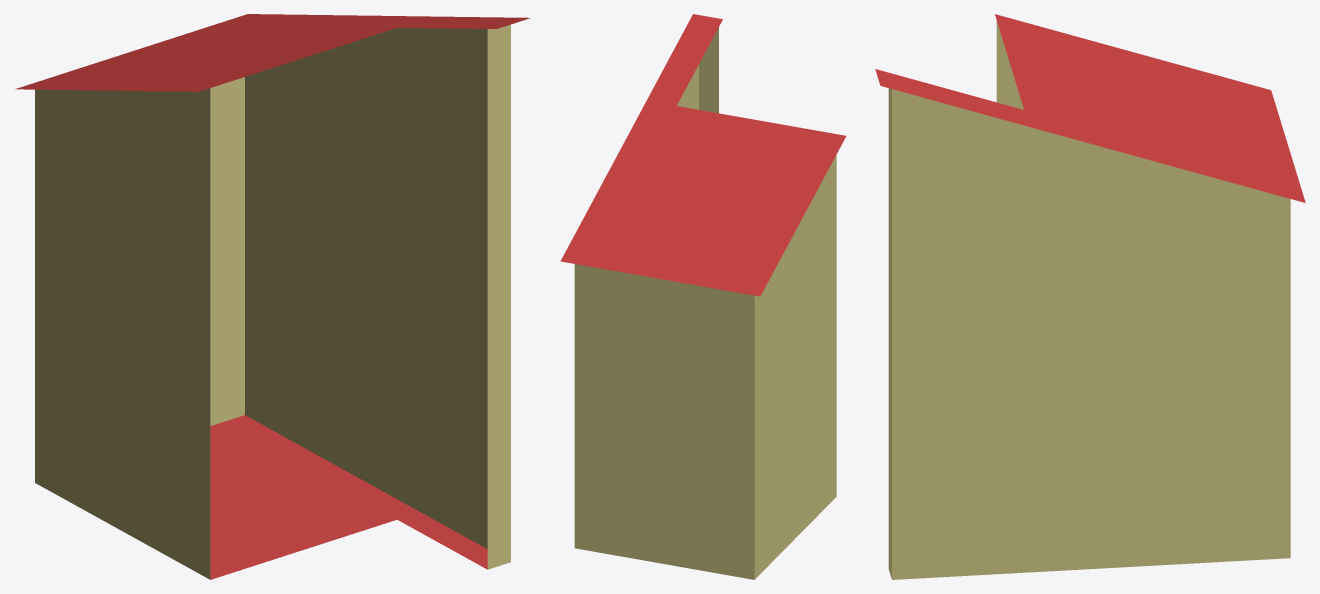
3 renders of one model, left to right at view 1: azimuth 30°, elevation 25°; view 2: azimuth 150°, elevation 25°; view 3: azimuth 270°, elevation 25°, orthographic. The views are drawn at different scales.
Size of the model in its own units: 5.98 by 7.99 by 10.24.
